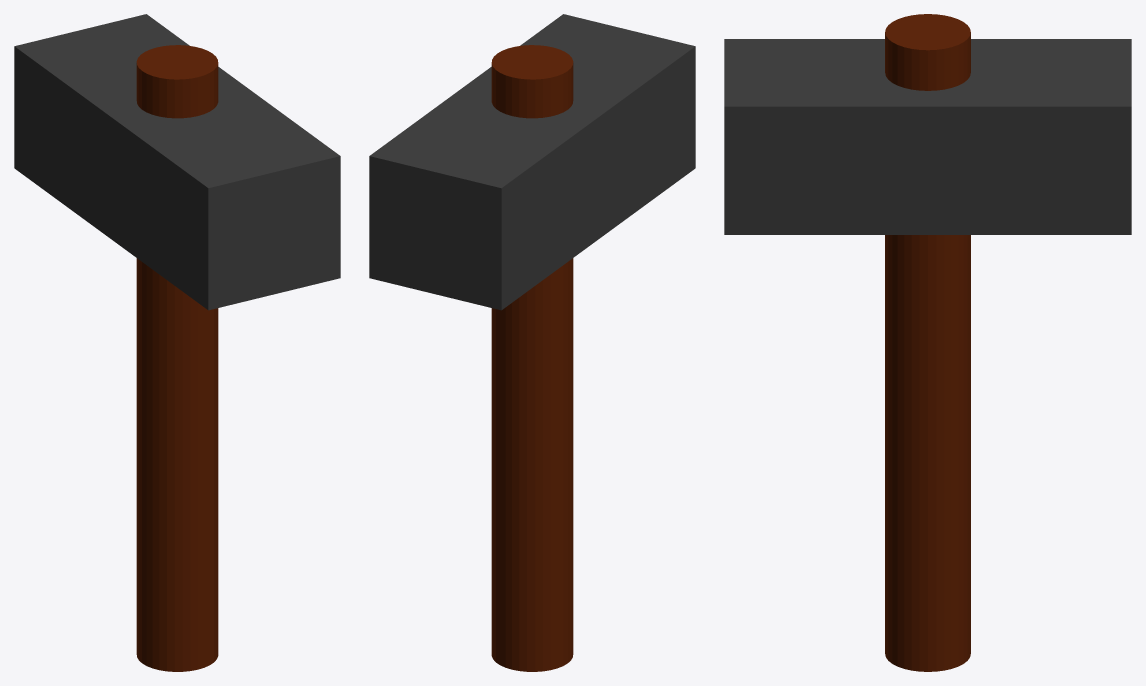
File: hammer.fbx
The picture shows the model from 3 angles, left to right: view 1: azimuth 30°, elevation 25°; view 2: azimuth 150°, elevation 25°; view 3: azimuth 270°, elevation 25°; orthographic projection. The views are drawn at different scales.
Visible parts, largest first — view 1: Cube, Cylinder; view 2: Cube, Cylinder; view 3: Cube, Cylinder.
Part boxes in pixels (x1,y1,x2,y2): Cube: (14,14,340,310); Cylinder: (136,45,218,671); Cube: (369,14,695,310); Cylinder: (491,45,573,671); Cube: (724,39,1131,234); Cylinder: (885,14,970,671).
Size of the model in its own units: 127 by 543 by 322.
